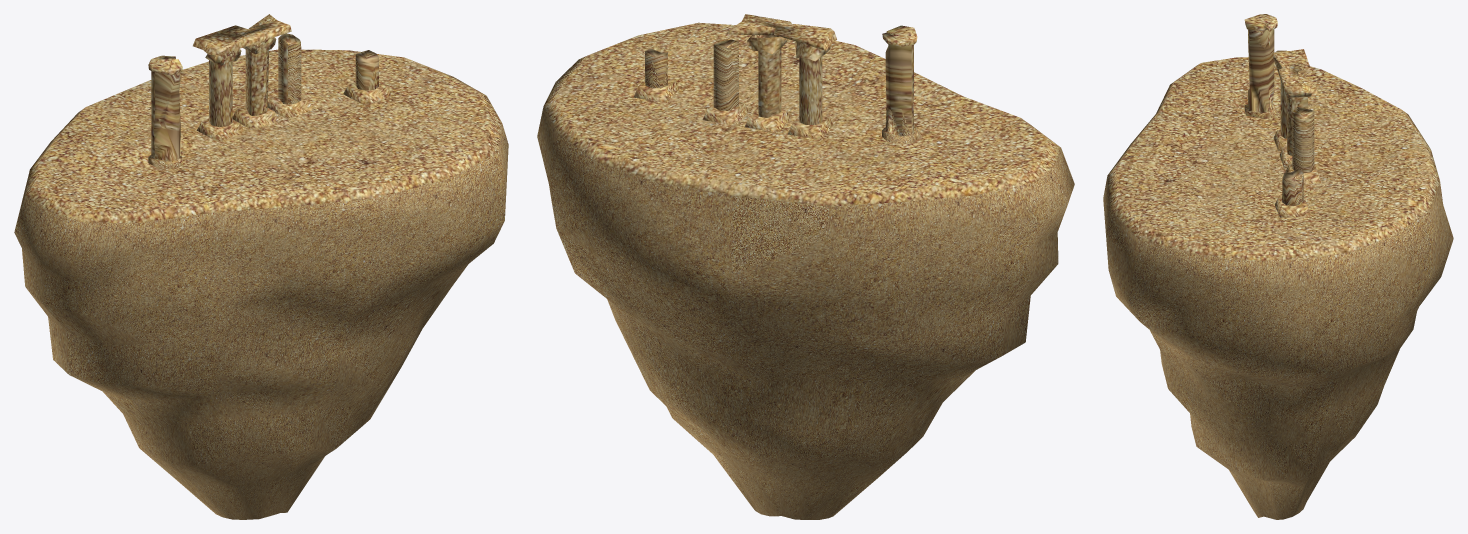
File: flying_island.obj
3 renders of one model, left to right at view 1: azimuth 30°, elevation 25°; view 2: azimuth 150°, elevation 25°; view 3: azimuth 270°, elevation 25°, orthographic. The views are drawn at different scales.
Visible parts, largest first — view 1: ROMODNODE; view 2: ROMODNODE; view 3: ROMODNODE.
Boxes of the visible parts, x1,y1,x2,y2 form: ROMODNODE: (14,14,508,519); ROMODNODE: (537,14,1074,519); ROMODNODE: (1103,14,1453,519).
Size of the model in its own units: 132 by 130 by 93.02.
